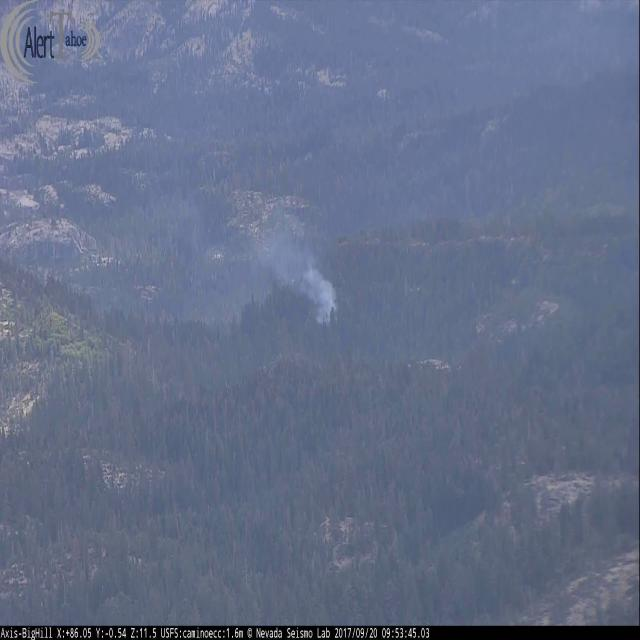smoke: (191, 201, 338, 331)
